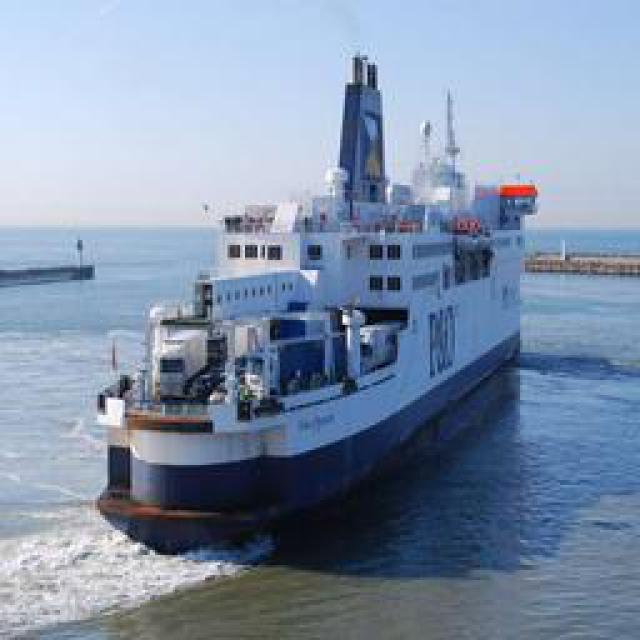Ship: (90, 58, 538, 536)
